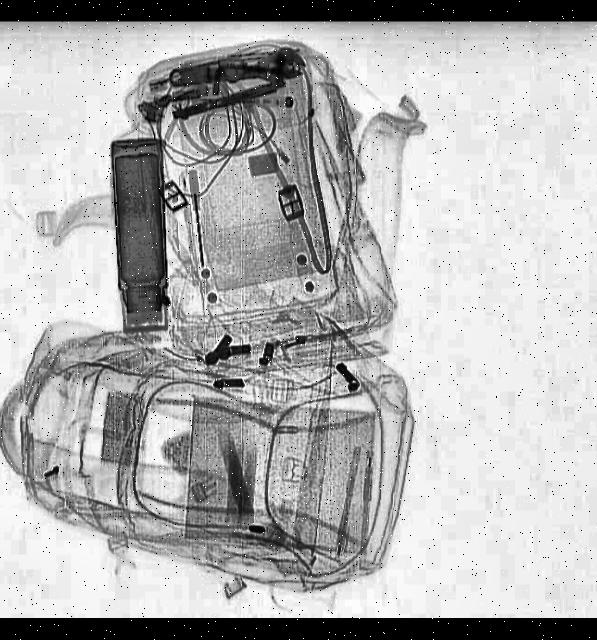Wrench: (169, 43, 308, 94)
